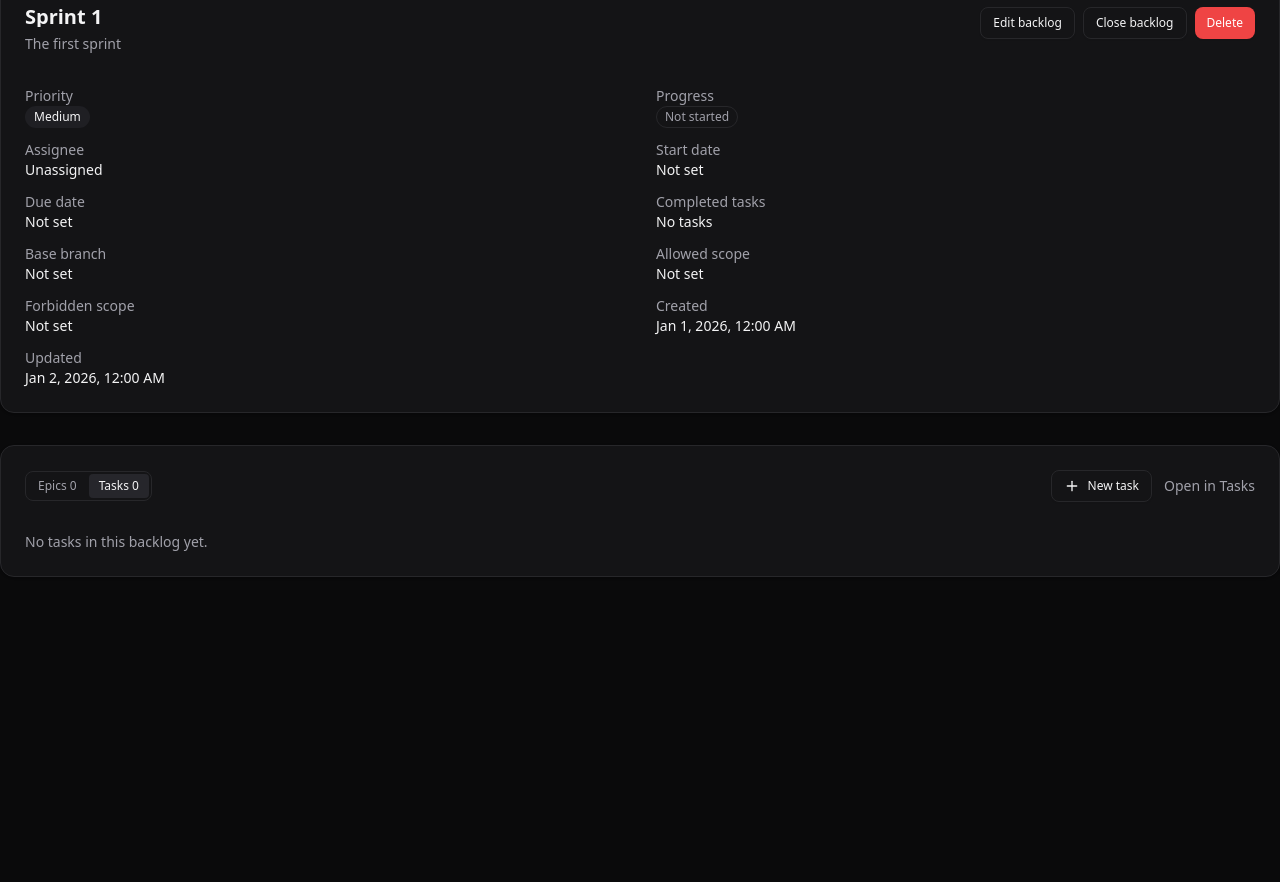
Scenario: BacklogDetail › edits the backlog in place and shows the saved values
This screenshot has width=1280, height=882.
Click the button "Edit backlog" at point(1028, 23), box 980,7 -> 1075,39
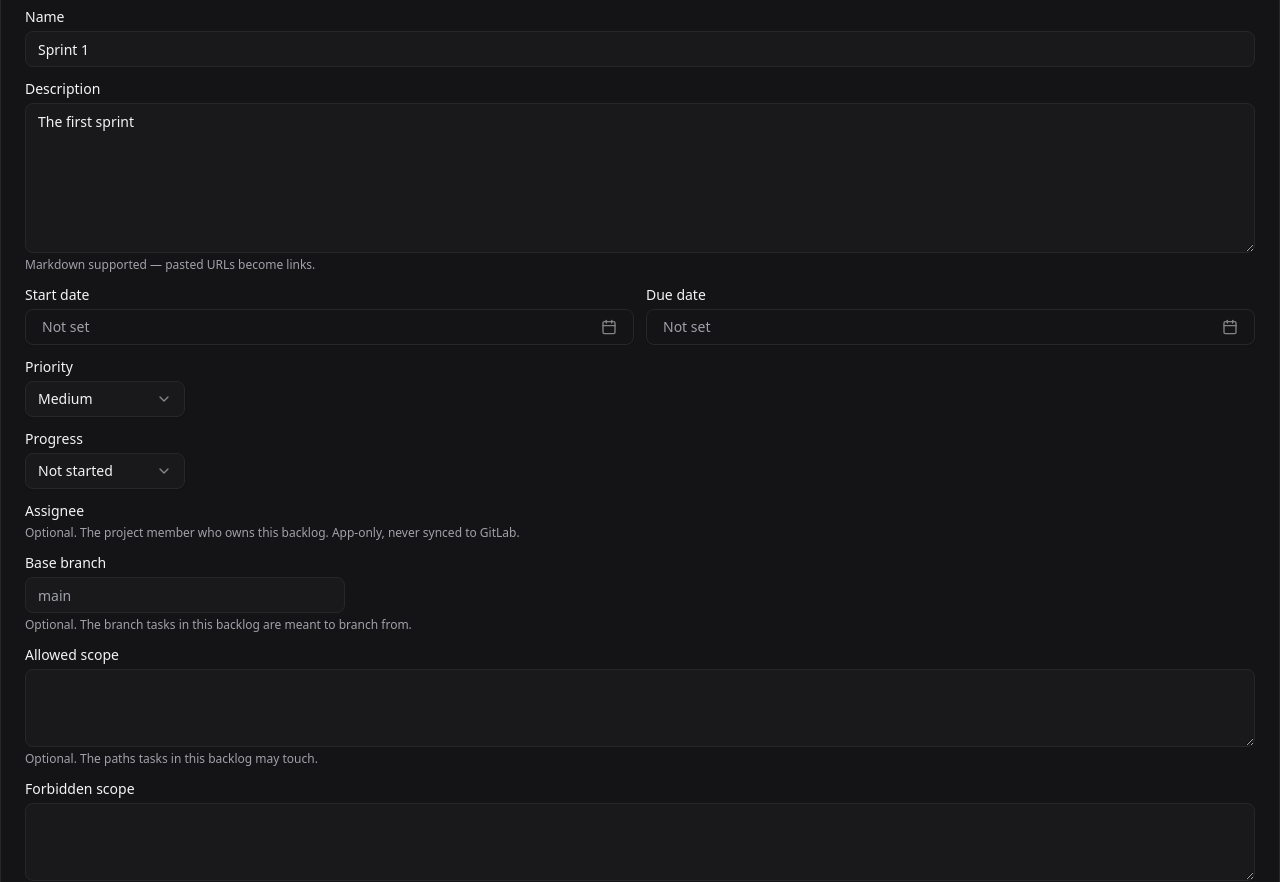
Replace the text in the field labelled "Name" with "Sprint 2" at point(640, 49), box 25,31 -> 1255,67
(page scrolled)
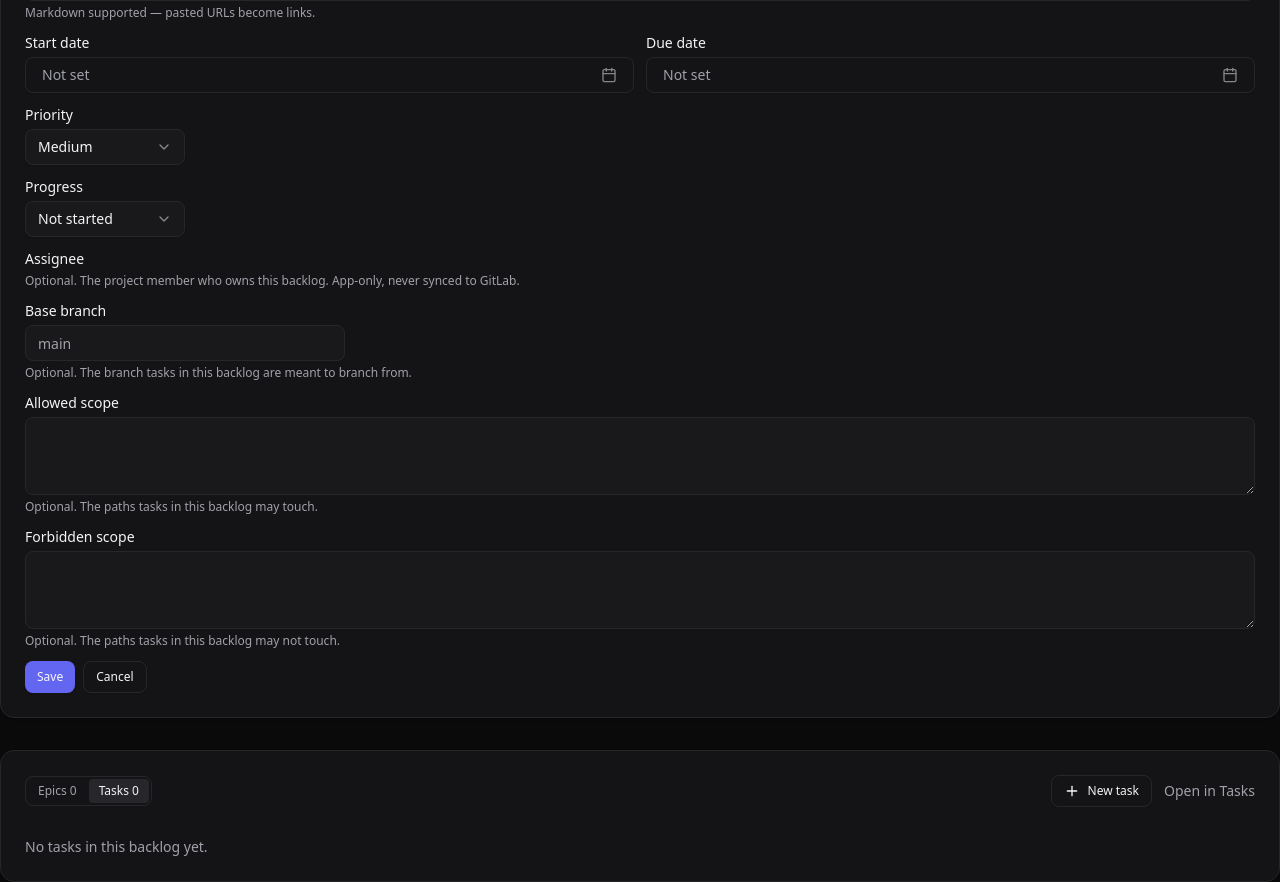
Click the button "Save" at point(50, 677), box 25,661 -> 75,693
(page scrolled)
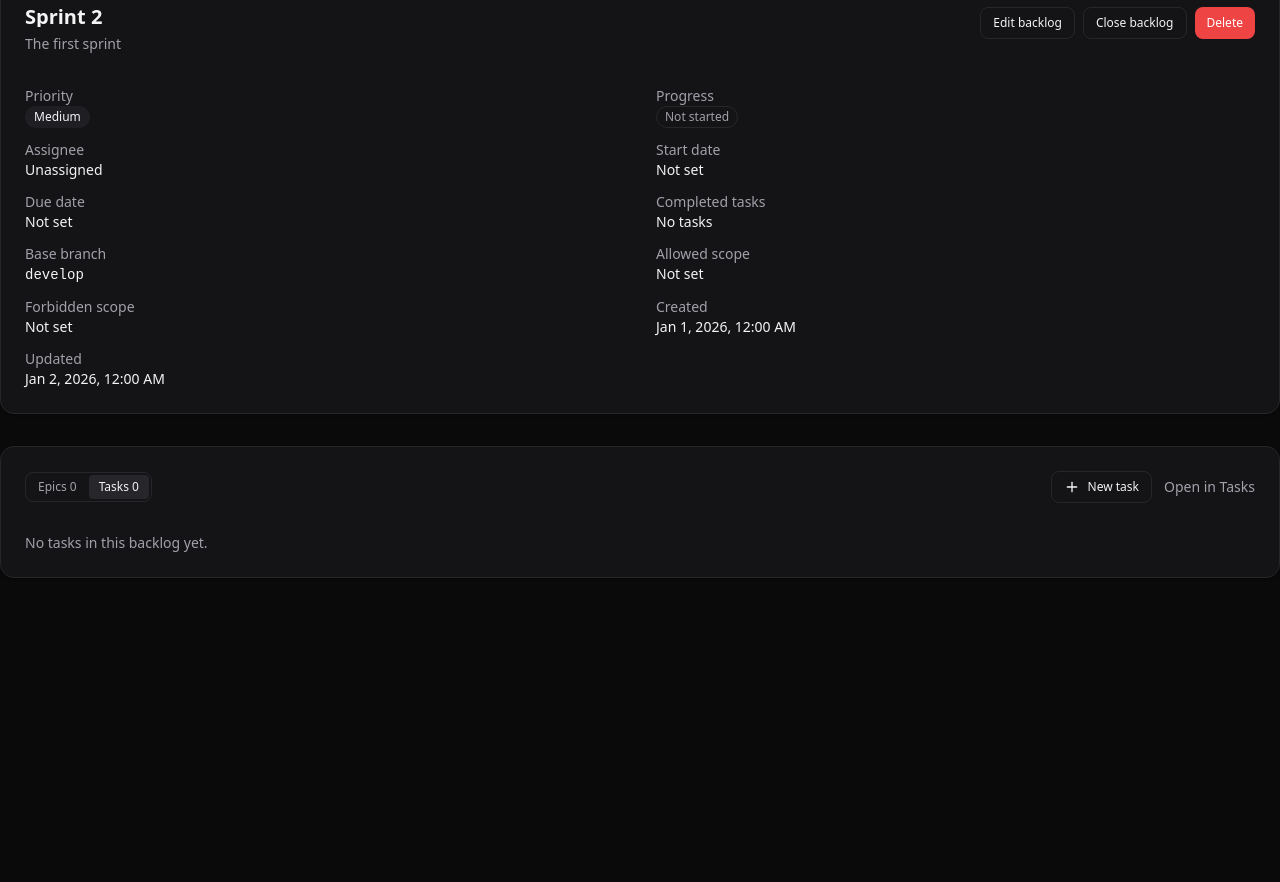
expect the heading "Sprint 2" is shown: met, box 25,7 -> 102,27
expect the text "develop" is shown: met, box 25,267 -> 84,283
expect the button "Save" is gone: met
